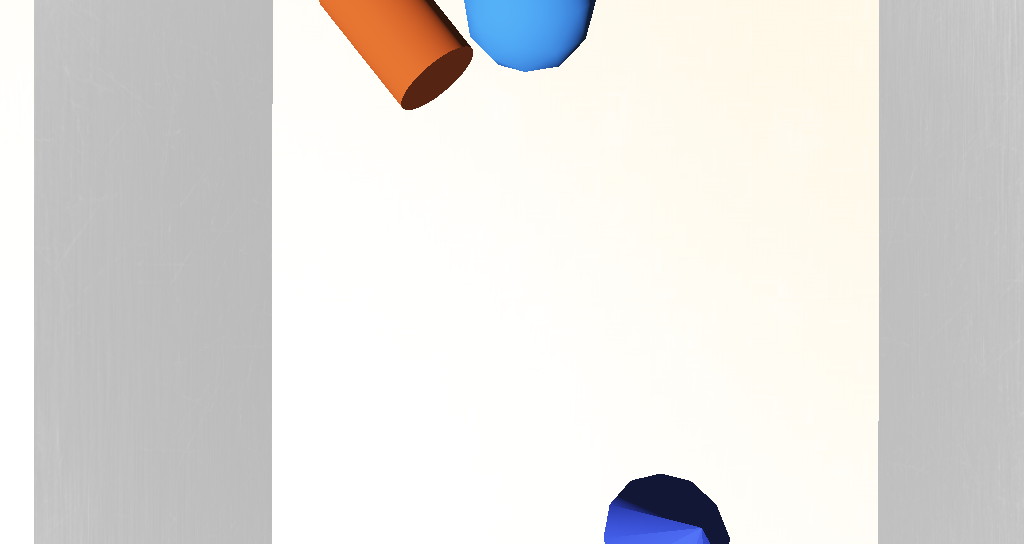cone: (377, 155, 458, 217)
cylinder: (519, 322, 586, 394)
sphere: (455, 160, 515, 203)
